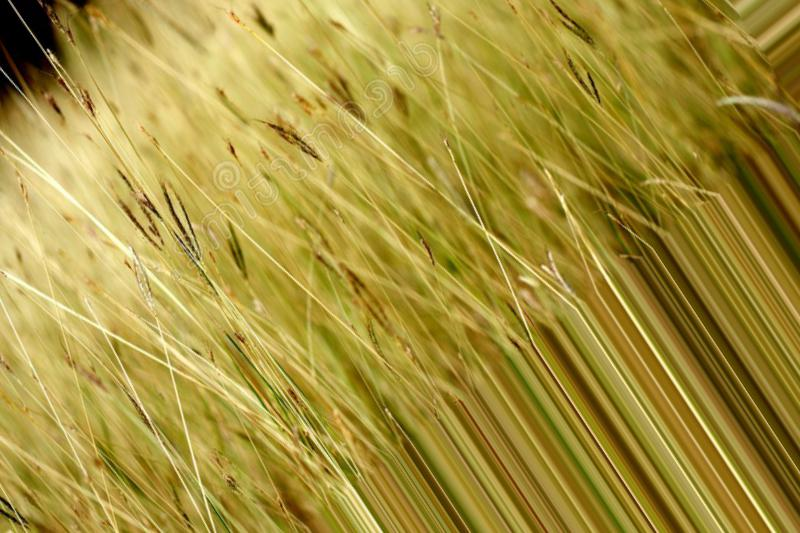patch: (19, 16, 679, 462)
